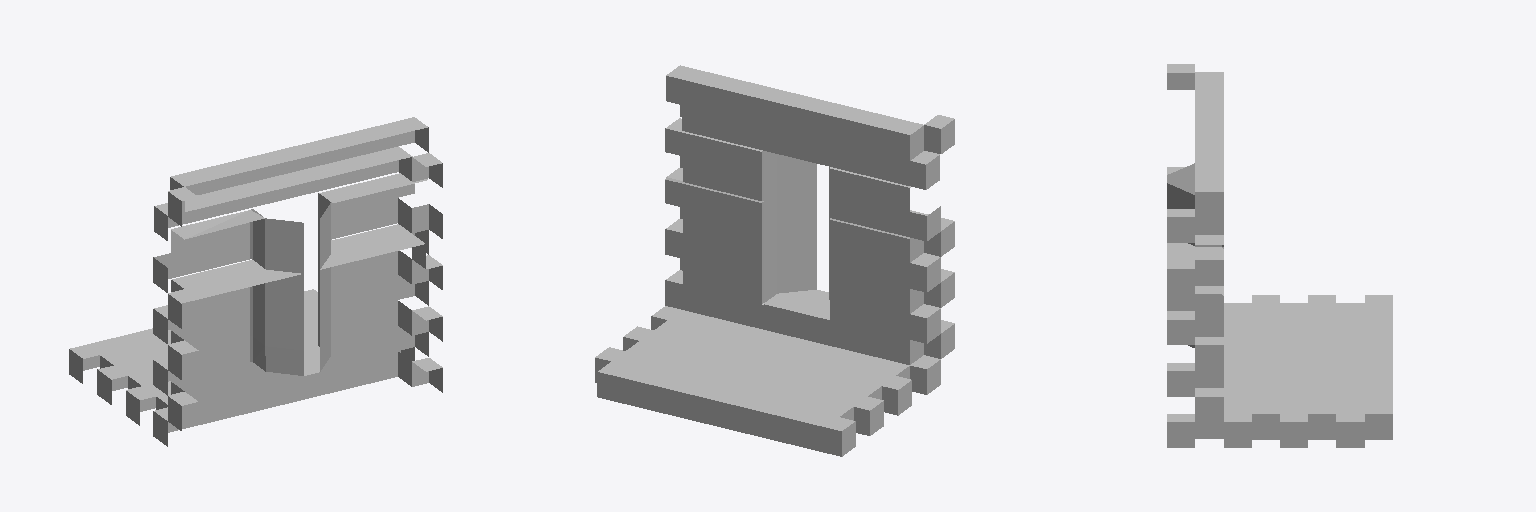
The model's file is Thick Slot.obj.
The picture shows the model from 3 angles: view 1: azimuth 30°, elevation 25°; view 2: azimuth 150°, elevation 25°; view 3: azimuth 270°, elevation 25°; orthographic projection.
Visible parts, largest first — view 1: Top_Slot_0_Intact.003; view 2: Top_Slot_0_Intact.003; view 3: Top_Slot_0_Intact.003.
Part boxes in pixels (left/top/right/bottom): Top_Slot_0_Intact.003: left=69, top=117, right=442, bottom=446; Top_Slot_0_Intact.003: left=595, top=65, right=954, bottom=456; Top_Slot_0_Intact.003: left=1167, top=64, right=1392, bottom=447.
Bounding box in the file's own units: 1.6 × 1.5 × 1.2.